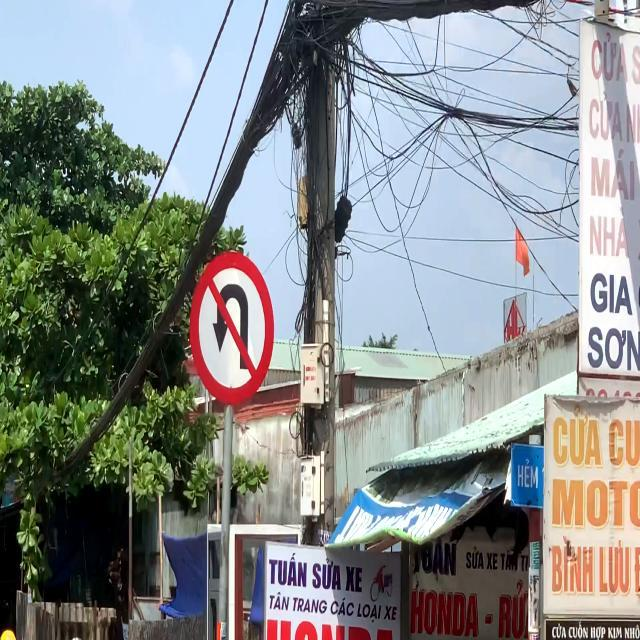P-124a1: (188, 248, 274, 403)
